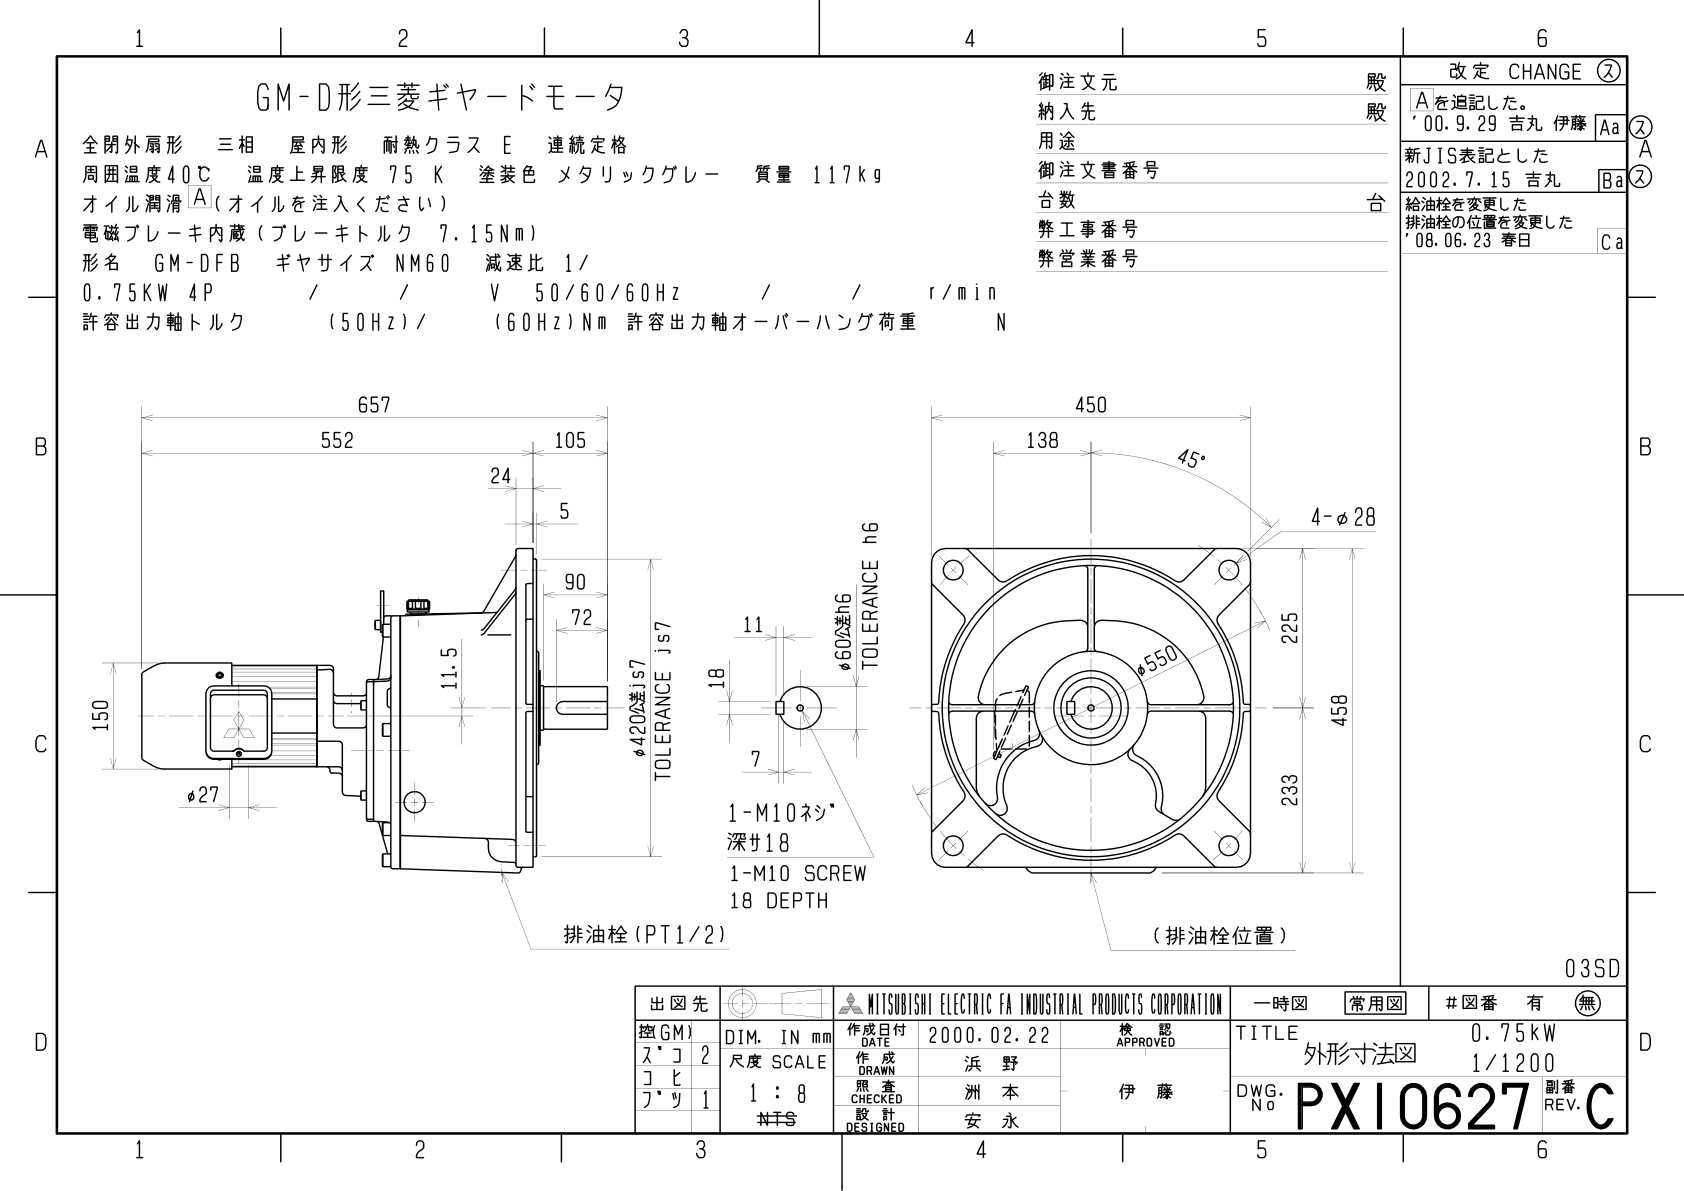GM_D_屋内＿三相_フランジ: (70, 345, 1389, 963)
